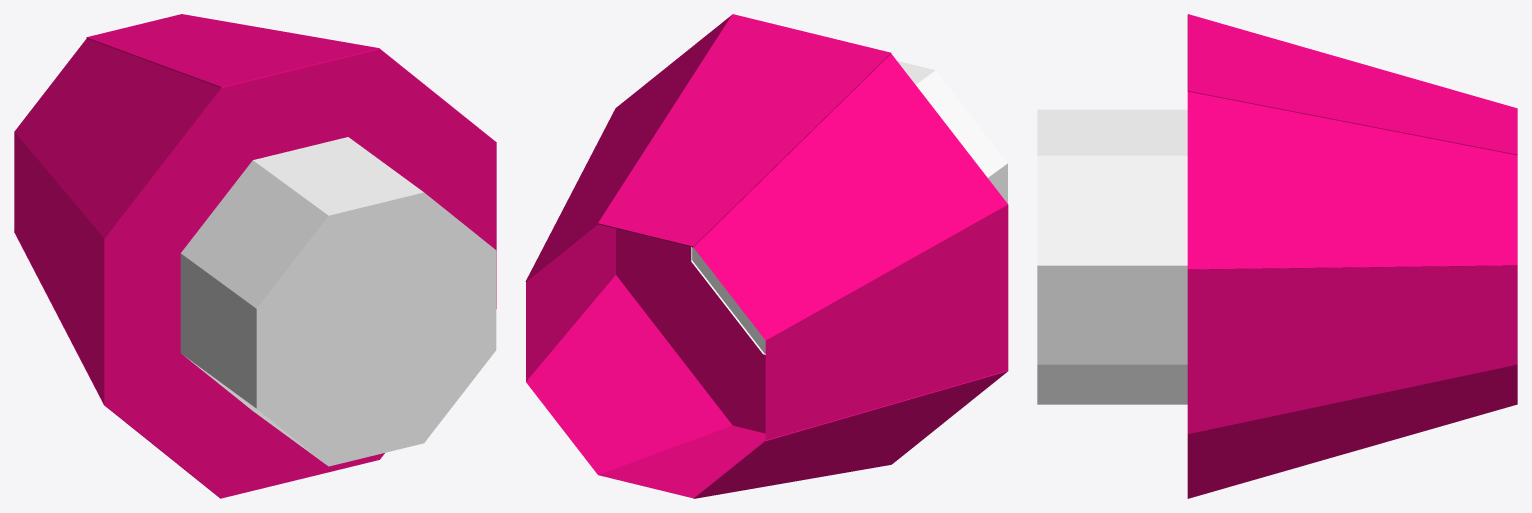
3 renders of one model, left to right at view 1: azimuth 30°, elevation 25°; view 2: azimuth 150°, elevation 25°; view 3: azimuth 270°, elevation 25°, orthographic.
Visible parts, largest first — view 1: perfume bottle p; view 2: perfume bottle p; view 3: perfume bottle p.
Part boxes in pixels (x1=…): perfume bottle p: x1=14, y1=14, x2=496, y2=498; perfume bottle p: x1=525, y1=14, x2=1008, y2=498; perfume bottle p: x1=1037, y1=14, x2=1517, y2=498.
Bounding box in the file's own units: 183 × 183 × 196.
